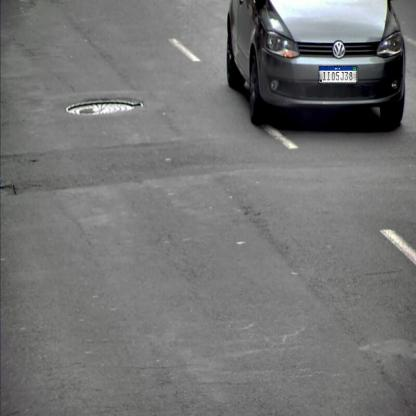PlacaM: (319, 66, 357, 83)
